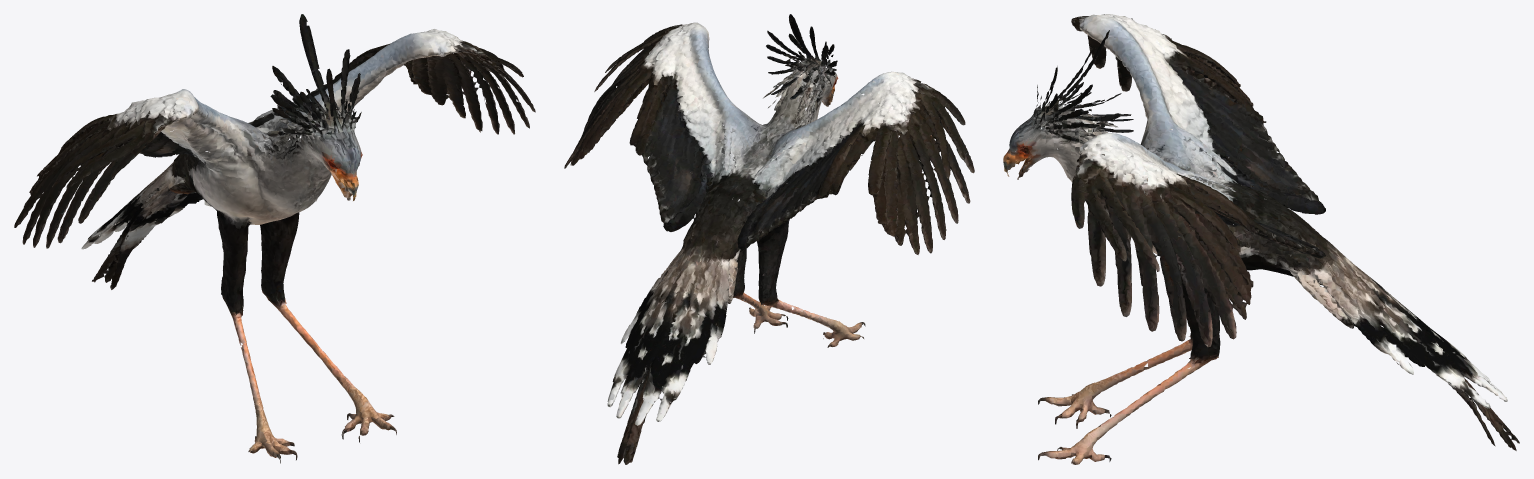
File: sekreter.glb
The picture shows the model from 3 angles, left to right: view 1: azimuth 30°, elevation 25°; view 2: azimuth 150°, elevation 25°; view 3: azimuth 270°, elevation 25°; orthographic projection. The views are drawn at different scales.
Size of the model in its own units: 1.4 by 1.2 by 1.35.
Materials: 1 (1 with a texture image).
